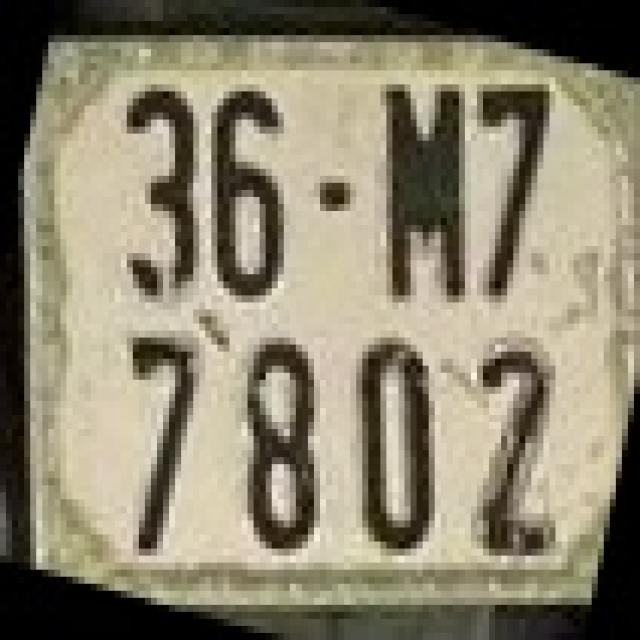0: (356, 331, 441, 548)
2: (471, 338, 561, 562)
3: (115, 77, 199, 296)
6: (205, 84, 290, 296)
7: (121, 330, 205, 556), (477, 78, 555, 302)
8: (236, 330, 326, 556)
M: (380, 74, 471, 299)
